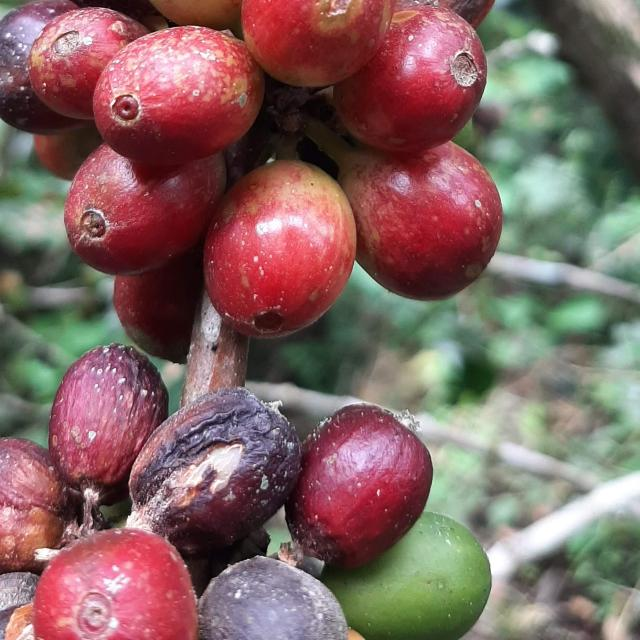green: (322, 513, 492, 640)
red: (127, 388, 301, 557), (286, 404, 433, 569), (334, 6, 488, 152), (48, 344, 168, 498), (32, 529, 197, 640), (199, 557, 348, 640), (0, 0, 85, 134), (0, 438, 67, 575)
yellow: (204, 159, 356, 338), (339, 141, 503, 300), (93, 25, 264, 165), (64, 143, 226, 275), (28, 7, 149, 119), (241, 0, 395, 86), (114, 241, 203, 363), (150, 0, 242, 29)
